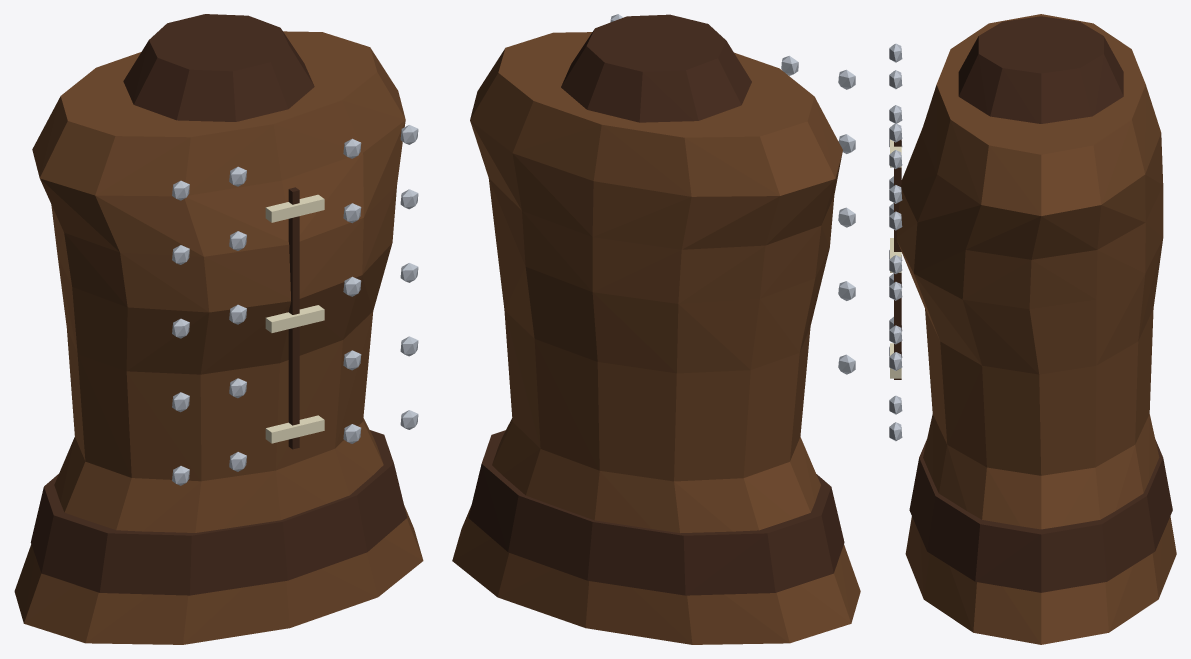
File: gear_studded_body_torso_f.glb
3 views of the same model, side by side, from view 1: azimuth 30°, elevation 25°; view 2: azimuth 150°, elevation 25°; view 3: azimuth 270°, elevation 25° (orthographic). The views are drawn at different scales.
Parts seen in each view (by area): view 1: gear_studded_body_torso_f; view 2: gear_studded_body_torso_f; view 3: gear_studded_body_torso_f.
Boxes of the visible parts, x1,y1,x2,y2 form: gear_studded_body_torso_f: [14, 14, 423, 644]; gear_studded_body_torso_f: [452, 14, 860, 644]; gear_studded_body_torso_f: [889, 14, 1176, 644].
Size of the model in its own units: 0.444 by 0.58 by 0.2969.
